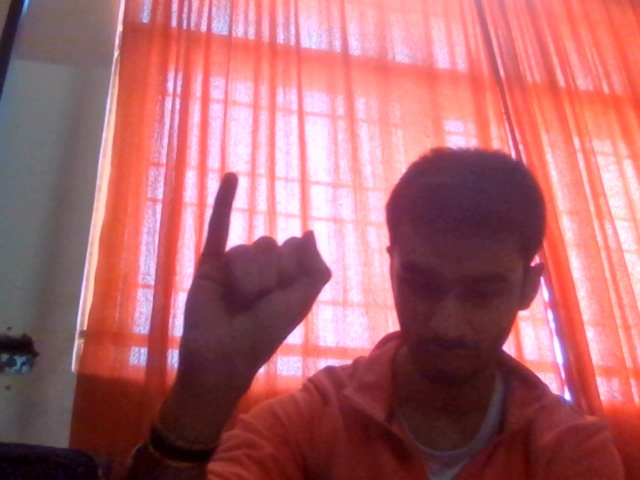I: (164, 143, 349, 462)
